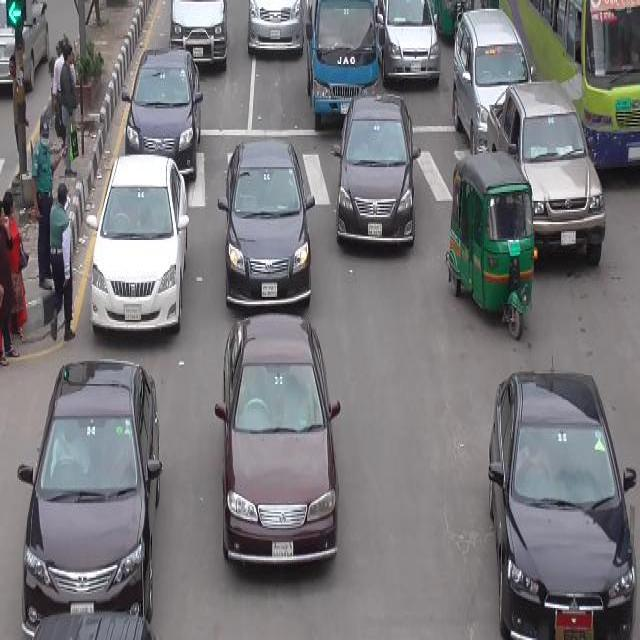vehicle: (488, 351, 639, 639), (16, 355, 168, 639), (212, 307, 348, 577), (485, 78, 607, 270), (85, 151, 193, 338), (445, 147, 540, 346), (216, 133, 318, 318), (330, 91, 425, 260), (576, 1, 640, 182), (122, 44, 204, 182), (306, 1, 384, 129), (379, 2, 444, 92)
